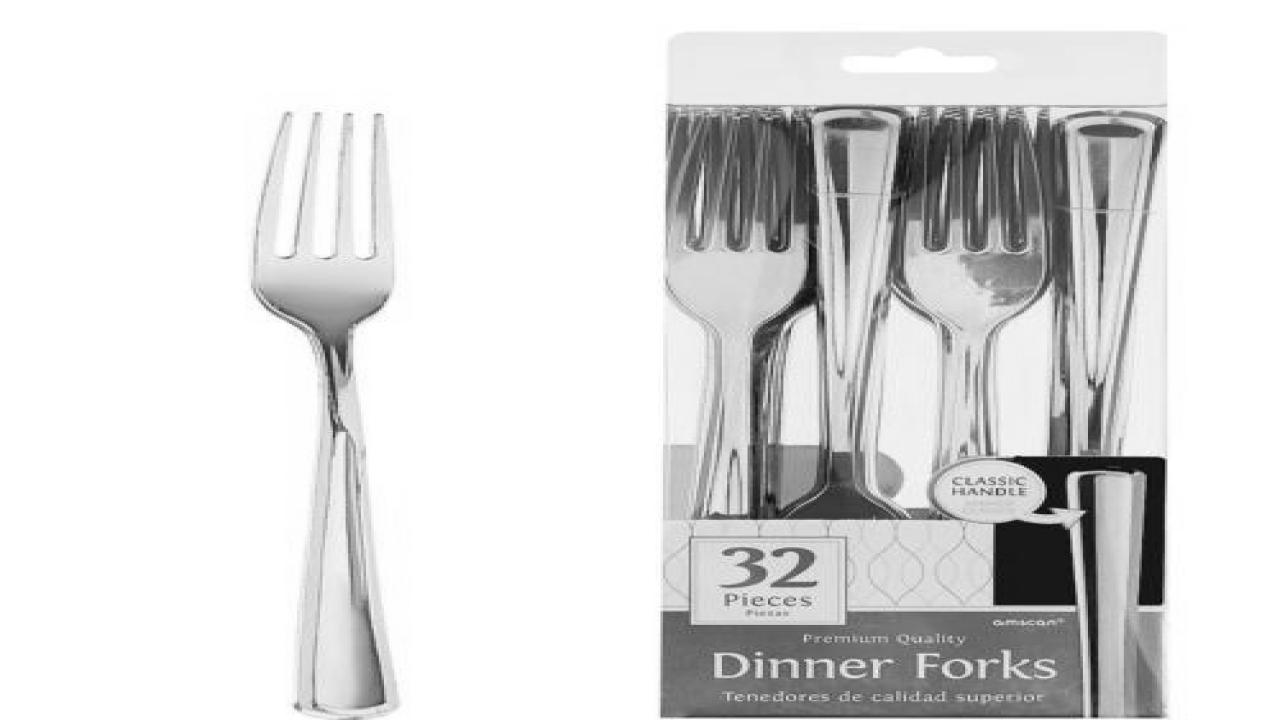fork: (248, 109, 399, 718), (886, 107, 1050, 517), (663, 107, 809, 518)
